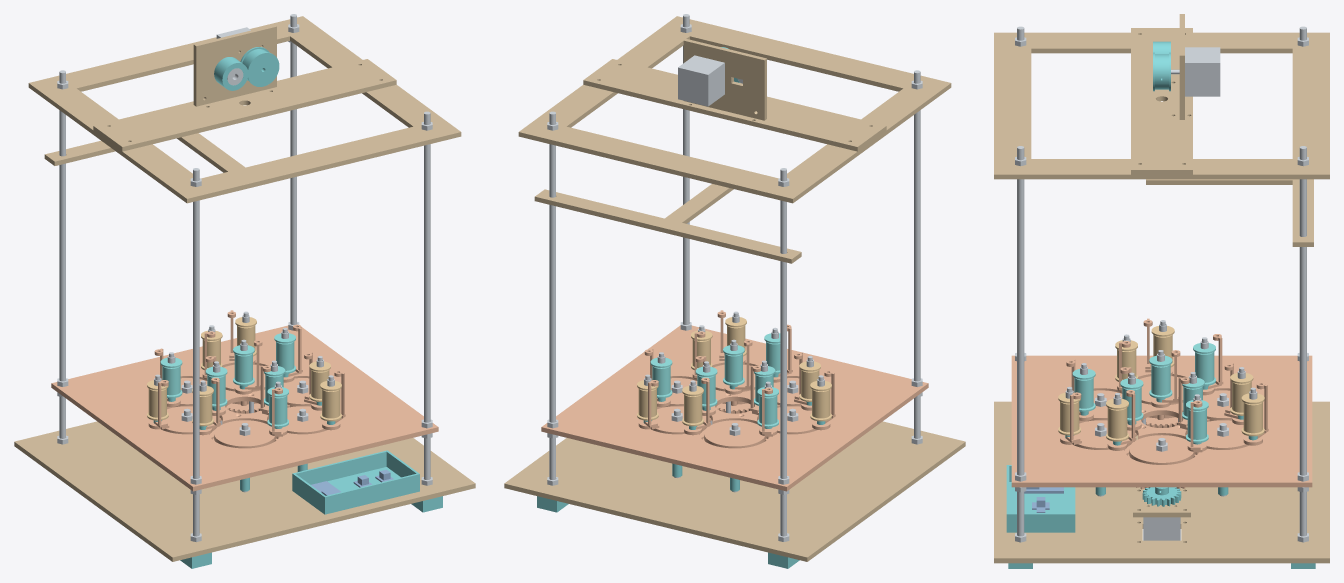
File: braidbench-12.glb
3 renders of one model, left to right at view 1: azimuth 30°, elevation 25°; view 2: azimuth 150°, elevation 25°; view 3: azimuth 270°, elevation 25°, orthographic. The views are drawn at different scales.
Parts seen in each view (by area): view 1: 04 / Track plate + supported islands, 01 / Foundation, 08 / Upper frame, 09 / Take-up bridge, 02 / Threaded mast (×4), 13 / Control tray, 10 / Motor and idler face, 07 / Forming eye support, 11 / Driven capstan, 12 / Adjustable idler; view 2: 01 / Foundation, 04 / Track plate + supported islands, 08 / Upper frame, 02 / Threaded mast (×4), 09 / Take-up bridge, 07 / Forming eye support, 10 / Motor and idler face, Take-up motor; view 3: 04 / Track plate + supported islands, 01 / Foundation, 08 / Upper frame, 09 / Take-up bridge, 02 / Threaded mast (×2), 13 / Control tray, 07 / Forming eye support, Take-up motor, Drive motor riser, Drive motor, 20T drive pinion, 11 / Driven capstan (+9 smaller).
Boxes of the visible parts, bbox=[...] form: 04 / Track plate + supported islands: bbox=[51, 325, 438, 491]; 01 / Foundation: bbox=[14, 421, 475, 561]; 08 / Upper frame: bbox=[28, 16, 461, 203]; 09 / Take-up bridge: bbox=[93, 59, 396, 151]; 02 / Threaded mast (×4): bbox=[59, 14, 430, 536]; 13 / Control tray: bbox=[292, 450, 419, 514]; 10 / Motor and idler face: bbox=[193, 25, 276, 106]; 07 / Forming eye support: bbox=[44, 133, 245, 172]; 11 / Driven capstan: bbox=[240, 47, 279, 86]; 12 / Adjustable idler: bbox=[214, 57, 247, 90]; 01 / Foundation: bbox=[504, 421, 965, 561]; 04 / Track plate + supported islands: bbox=[541, 325, 928, 491]; 08 / Upper frame: bbox=[518, 16, 951, 203]; 02 / Threaded mast (×4): bbox=[549, 14, 920, 536]; 09 / Take-up bridge: bbox=[583, 59, 886, 151]; 07 / Forming eye support: bbox=[534, 184, 801, 263]; 10 / Motor and idler face: bbox=[683, 39, 766, 120]; Take-up motor: bbox=[678, 55, 724, 106]; 04 / Track plate + supported islands: bbox=[1011, 355, 1312, 487]; 01 / Foundation: bbox=[994, 401, 1329, 563]; 08 / Upper frame: bbox=[994, 32, 1329, 179]; 09 / Take-up bridge: bbox=[1131, 28, 1192, 174]; 02 / Threaded mast (×2): bbox=[1017, 146, 1306, 536]; 13 / Control tray: bbox=[1006, 465, 1075, 532]; 07 / Forming eye support: bbox=[1146, 179, 1313, 246]; Take-up motor: bbox=[1171, 47, 1220, 96]; Drive motor riser: bbox=[1133, 488, 1190, 517]; Drive motor: bbox=[1143, 517, 1180, 540]; 20T drive pinion: bbox=[1142, 487, 1181, 506]; 11 / Driven capstan: bbox=[1153, 52, 1170, 91].
Size of the model in its own units: 0.42 by 0.586 by 0.38.
